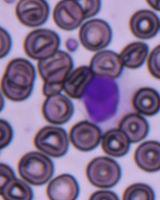L: (80, 74, 134, 125)
